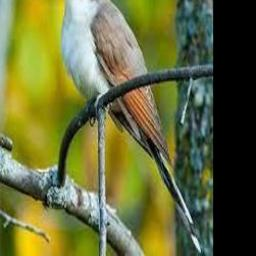Cuckoo: (59, 0, 204, 256)
